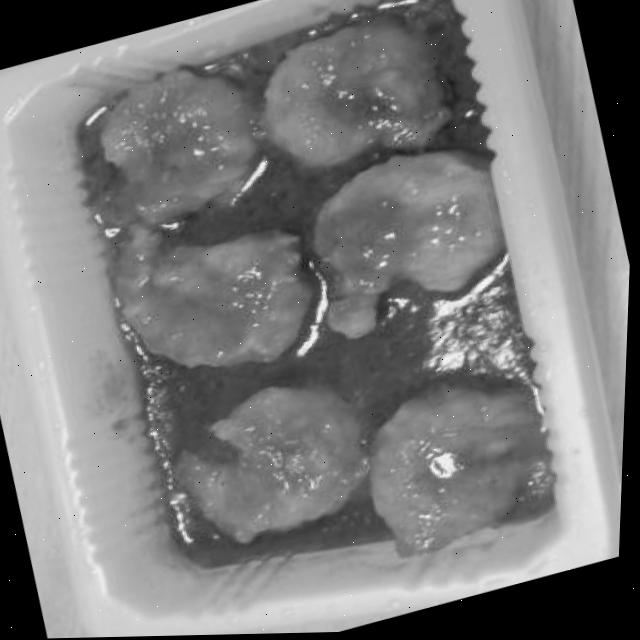熟制海鲜: (9, 0, 590, 617)
